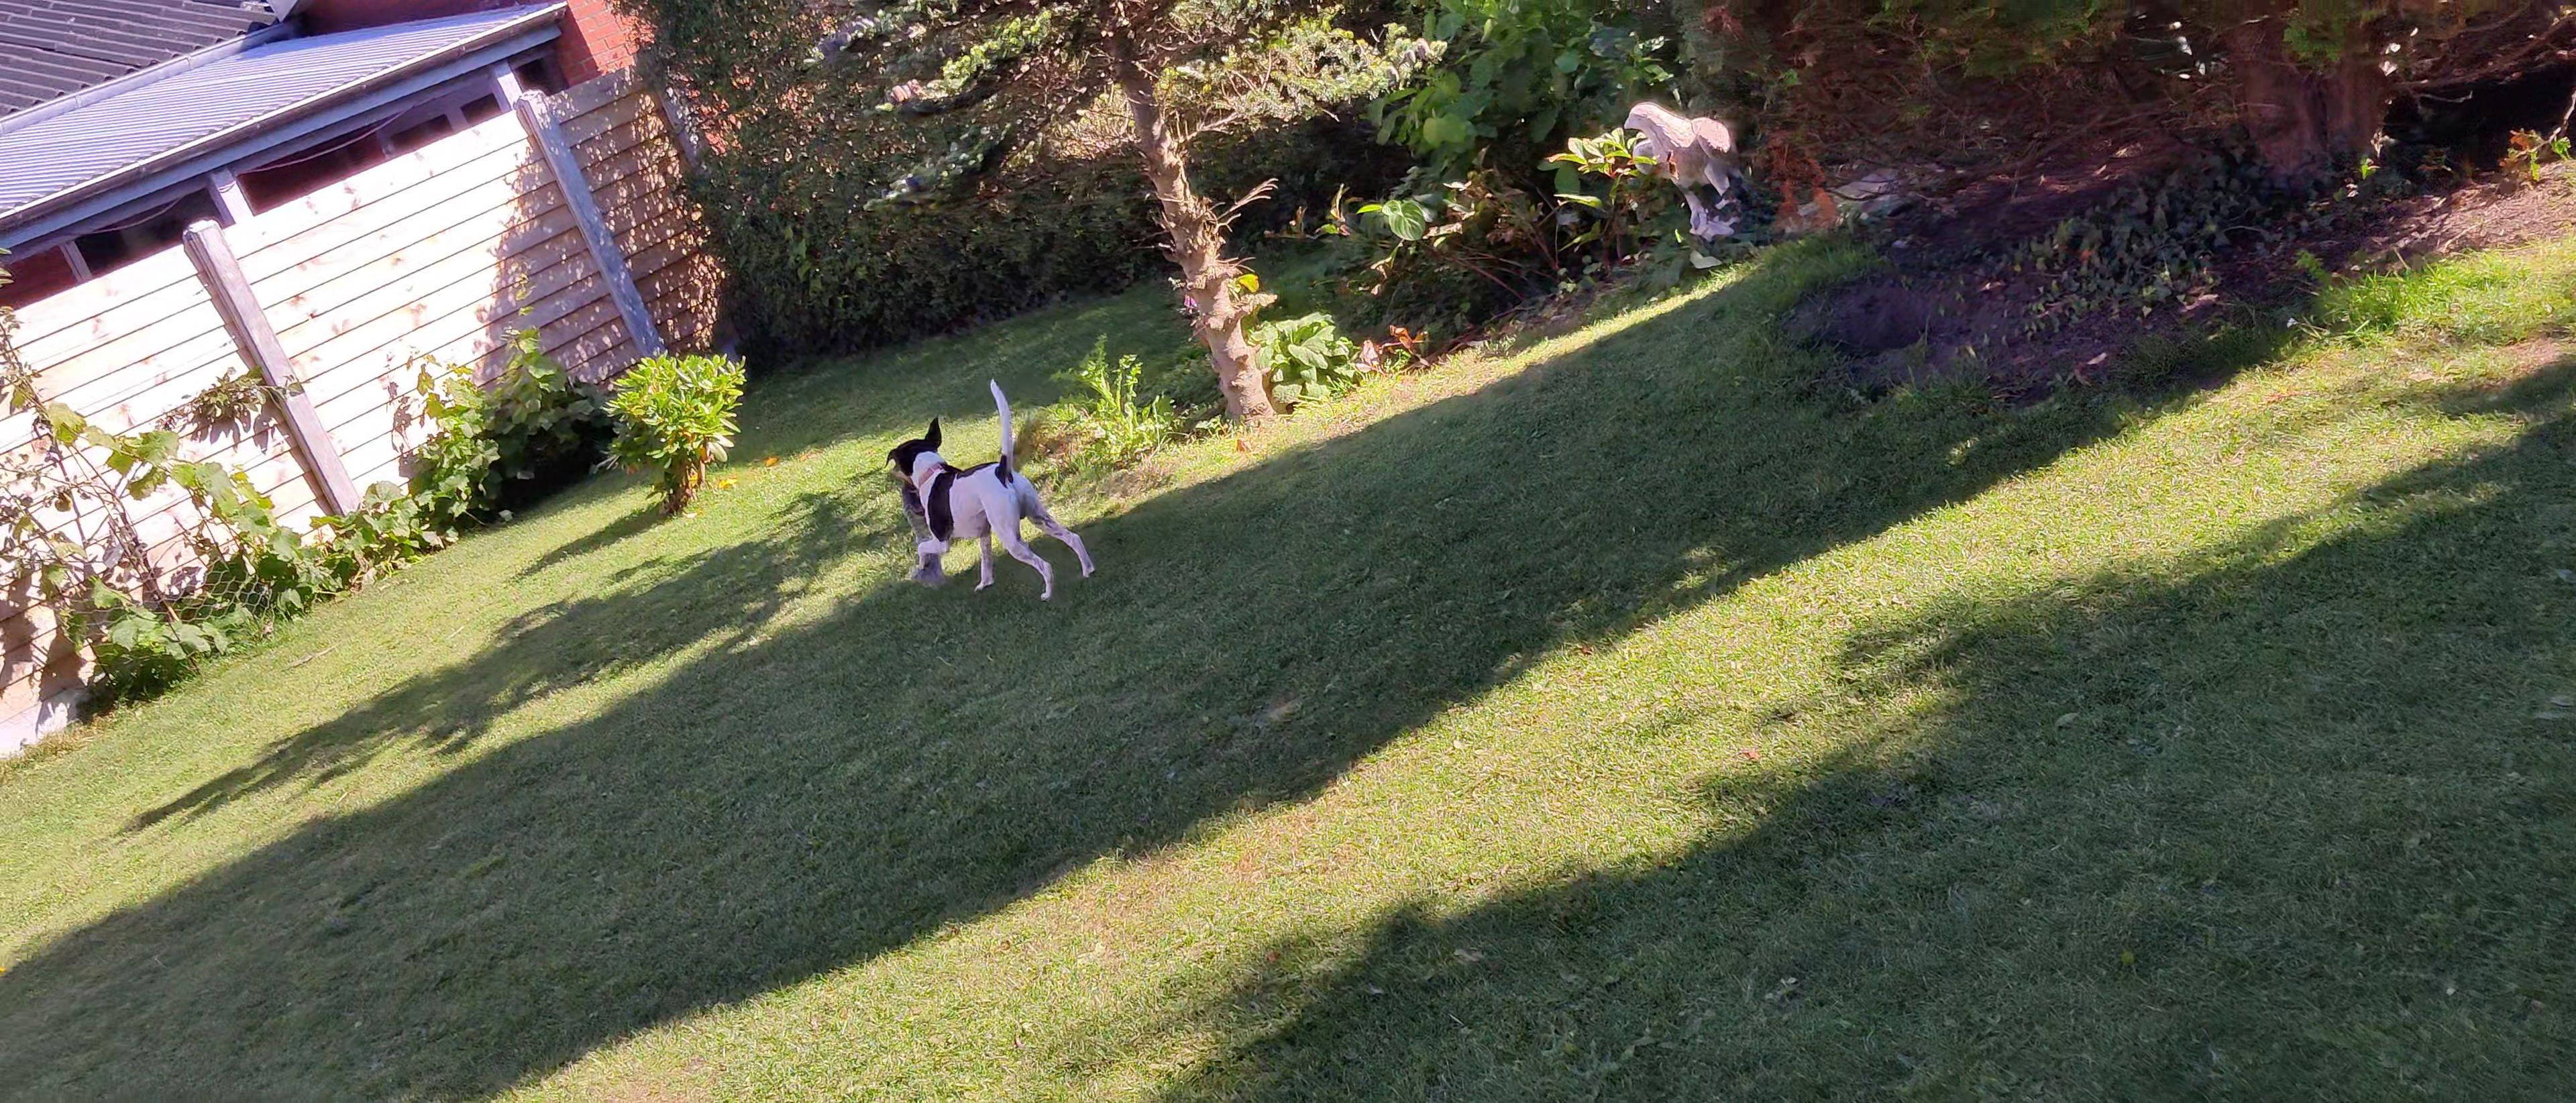Dog: (884, 376, 1102, 607)
